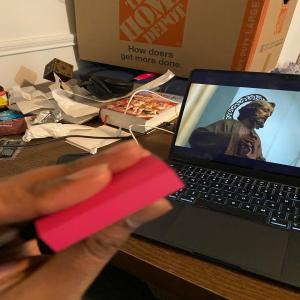Blume-E-Ciggirate: (13, 153, 184, 265)
